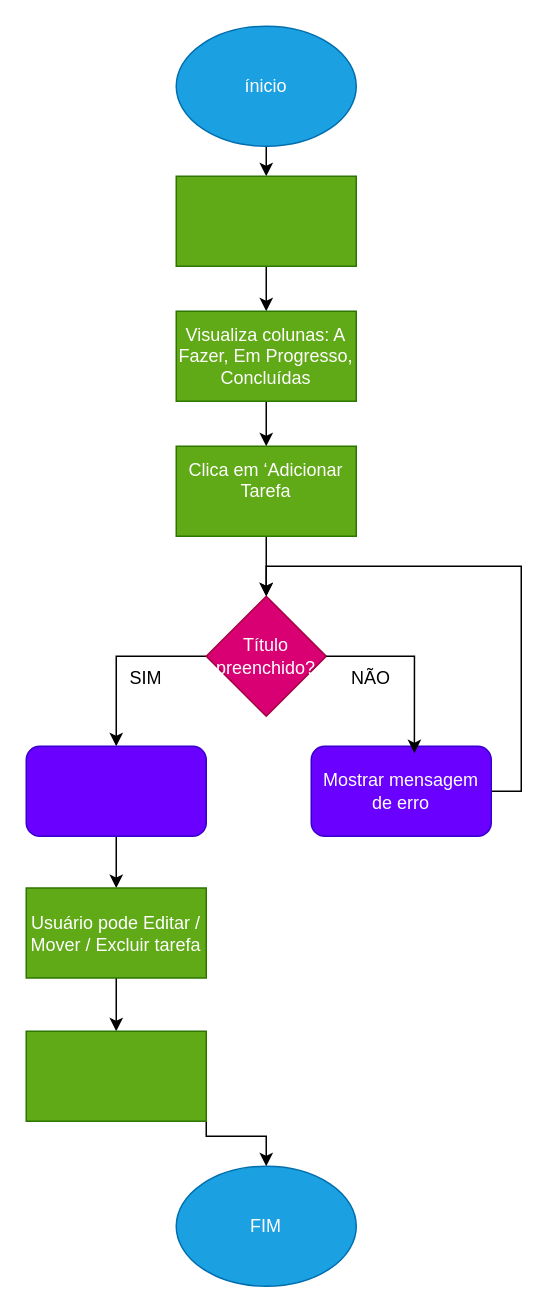
Some shapes in this 560 by 1313 pixel diagram are drawn without their labels. The box of each missing label's shape, as (x1, y1, x2, y2) in pixels:
Alterações são salvas via API Go: (25, 1030, 206, 1121)
Criar tarefa na coluna "A Fazer": (25, 745, 206, 836)
Usuário acessa o Kanban: (175, 175, 356, 266)
